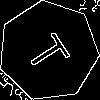T: (23, 26, 79, 76)
